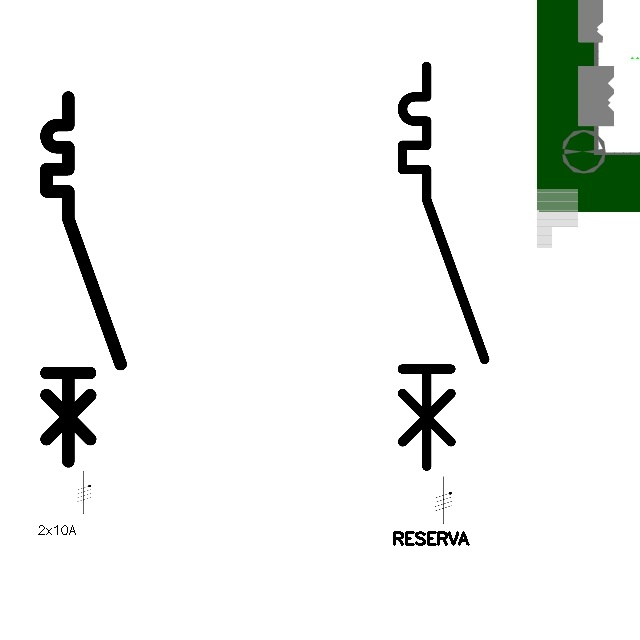interruptor_termomagnetico: (392, 56, 495, 477), (37, 88, 130, 470)
